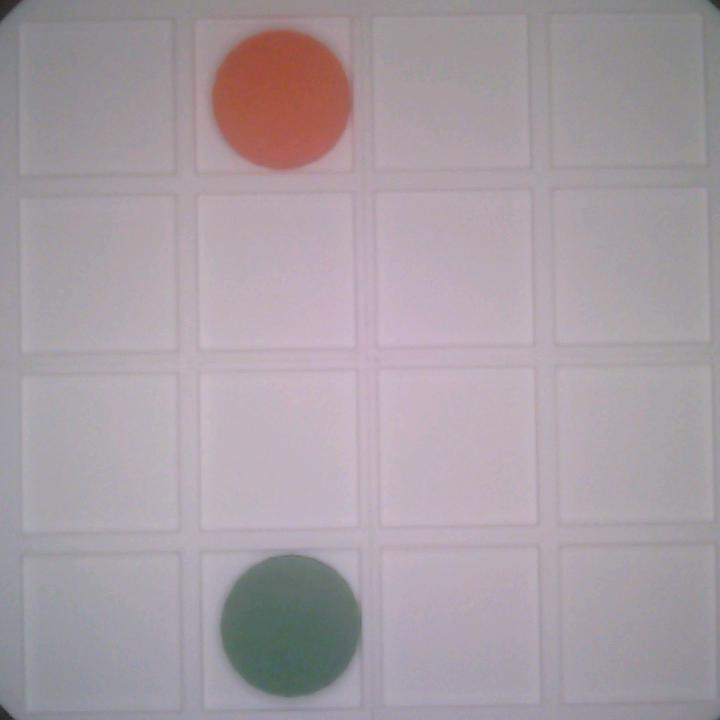Green circle: (218, 557, 361, 701)
Orange circle: (208, 29, 353, 170)
